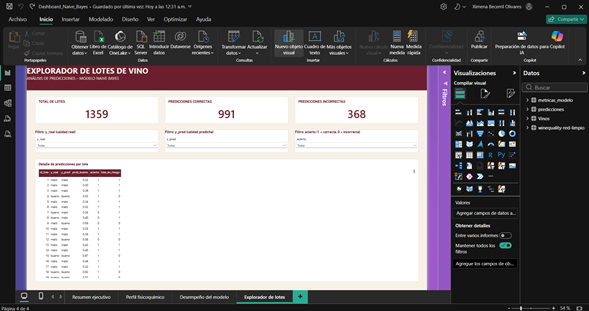

Layout of this report page (visuals, bound fields, positions):
{"tool":"powerbi","page":{"name":"Explorador de lotes","canvas":[1920,1080],"ordinal":3},"visuals":[{"type":"textbox","box":[0,0,1920,120],"z":0},{"type":"card","title":"TOTAL DE LOTES","fields":{"Values":["Vinos.Total lotes explorador"]},"box":[40,150,593,130],"z":1},{"type":"card","title":"PREDICCIONES CORRECTAS","fields":{"Values":["predicciones.Predicciones correctas"]},"box":[663,150,593,130],"z":2},{"type":"card","title":"PREDICCIONES INCORRECTAS","fields":{"Values":["predicciones.Predicciones incorrectas"]},"box":[1286,150,593,130],"z":3},{"type":"slicer","title":"Filtro: y_real (calidad real)","fields":{"Values":["predicciones.y_real"]},"box":[40,310,593,110],"z":10},{"type":"slicer","title":"Filtro: y_pred (calidad predicha)","fields":{"Values":["predicciones.y_pred"]},"box":[663,310,593,110],"z":11},{"type":"slicer","title":"Filtro: acierto (1 = correcta, 0 = incorrecta)","fields":{"Values":["predicciones.acierto"]},"box":[1286,310,593,110],"z":12},{"type":"tableEx","title":"Detalle de predicciones por lote","fields":{"Values":["predicciones.id_lote","predicciones.y_real","predicciones.y_pred","predicciones.prob_bueno","predicciones.acierto","predicciones.lote_en_riesgo"]},"box":[40,450,1840,590],"z":13}]}

Visuals, with their boxes on the page's 1920x1080 design canvas (x1, y1, x2, y2). These are canvas units, not pixel positions in the 589x311 screenshot, which may show the page scaled, cropped or inside an application window:
textbox: left=0, top=0, right=1920, bottom=120
"TOTAL DE LOTES" card: left=40, top=150, right=633, bottom=280
"PREDICCIONES CORRECTAS" card: left=663, top=150, right=1256, bottom=280
"PREDICCIONES INCORRECTAS" card: left=1286, top=150, right=1879, bottom=280
"Filtro: y_real (calidad real)" slicer: left=40, top=310, right=633, bottom=420
"Filtro: y_pred (calidad predicha)" slicer: left=663, top=310, right=1256, bottom=420
"Filtro: acierto (1 = correcta, 0 = incorrecta)" slicer: left=1286, top=310, right=1879, bottom=420
"Detalle de predicciones por lote" tableEx: left=40, top=450, right=1880, bottom=1040
